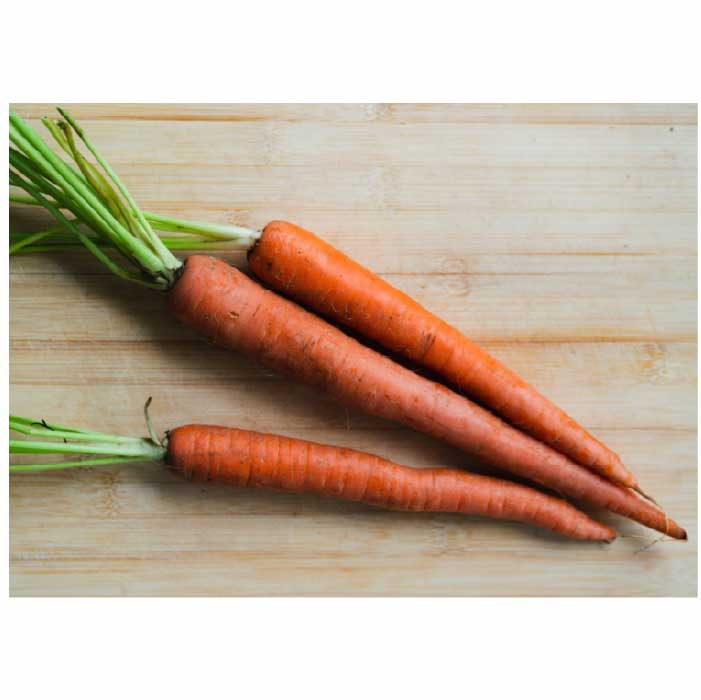Karotte: (246, 219, 641, 488), (164, 423, 617, 544)
